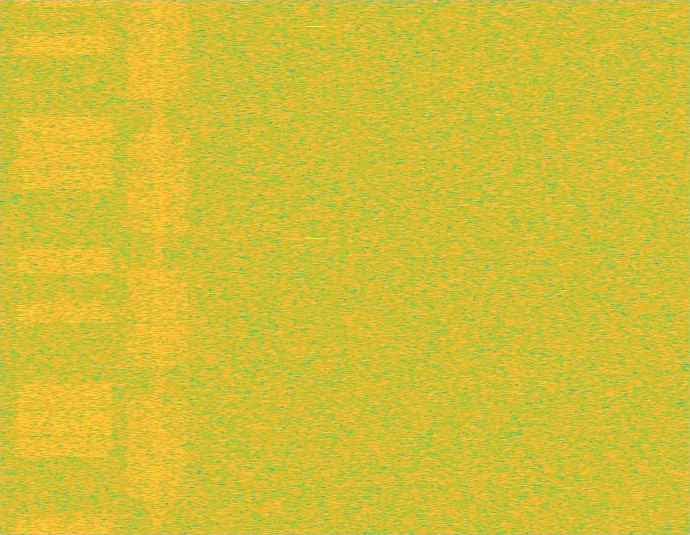5G: (124, 0, 193, 534)
DSSS: (151, 0, 166, 534)
LTE: (13, 0, 116, 534)
Radar: (309, 0, 323, 534)
